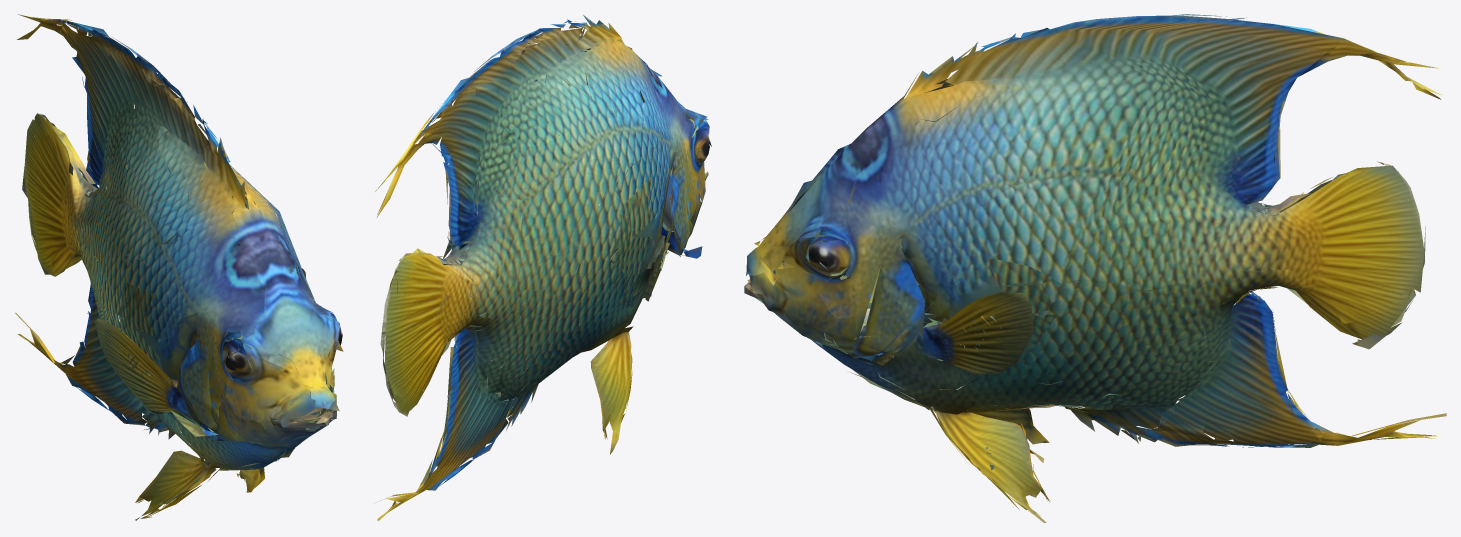
The model's file is angel.glb.
3 renders of one model, left to right at view 1: azimuth 30°, elevation 25°; view 2: azimuth 150°, elevation 25°; view 3: azimuth 270°, elevation 25°, orthographic. The views are drawn at different scales.
Visible parts, largest first — view 1: angel.001; view 2: angel.001; view 3: angel.001.
Part boxes in pixels (x1,y1,x2,y2): angel.001: (14, 14, 343, 520); angel.001: (375, 14, 711, 520); angel.001: (744, 14, 1446, 522).
Size of the model in its own units: 0.3932 by 0.7511 by 1.
Materials: 1 (1 with a texture image).
